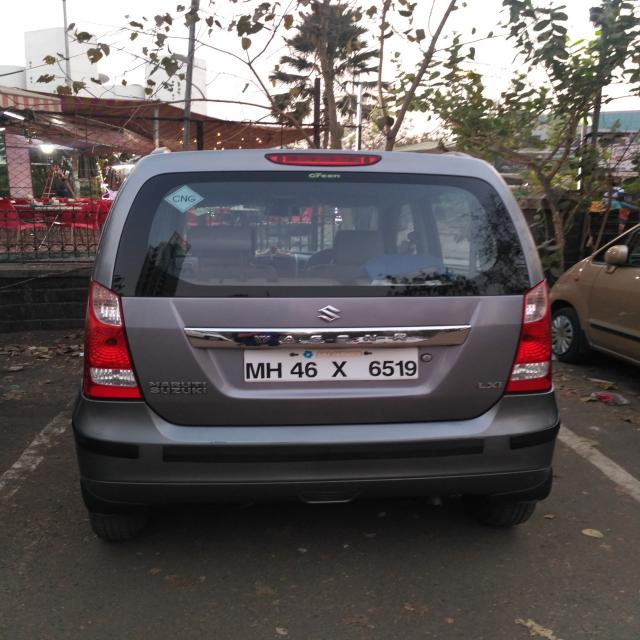Number-Plate: (245, 350, 418, 385)
